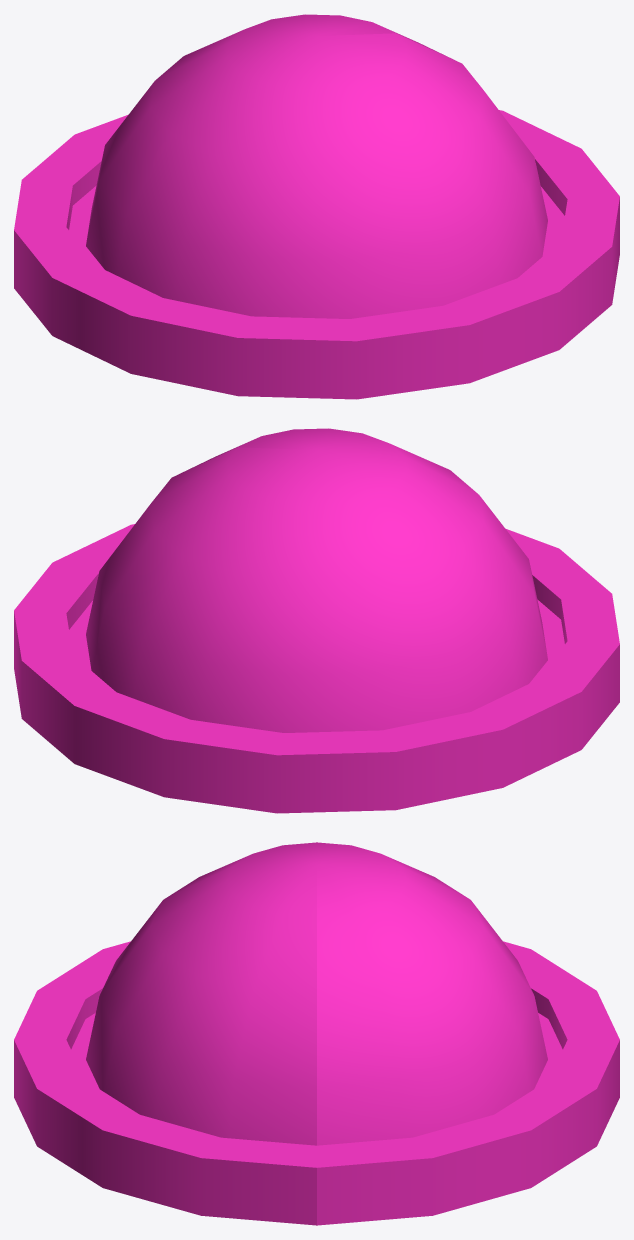
Rendered from Button_o.fbx.
3 renders of one model, top to bottom at view 1: azimuth 30°, elevation 25°; view 2: azimuth 150°, elevation 25°; view 3: azimuth 270°, elevation 25°, orthographic.
Visible parts, largest first — view 1: Cube.021; view 2: Cube.021; view 3: Cube.021.
Part boxes in pixels (left/top/right/bottom): Cube.021: left=14, top=14, right=619, bottom=399; Cube.021: left=14, top=428, right=619, bottom=813; Cube.021: left=14, top=842, right=619, bottom=1225.
Size of the model in its own units: 10.98 by 4.66 by 10.98.
